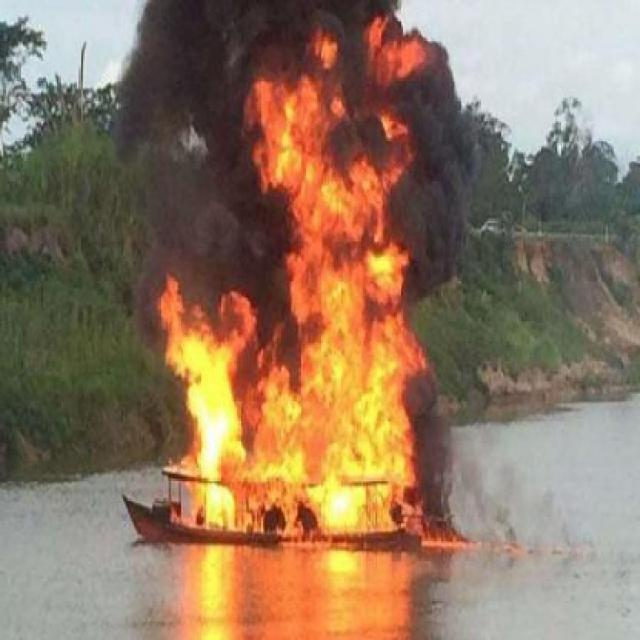Fire: (237, 74, 486, 554), (150, 277, 263, 538), (370, 20, 422, 83), (276, 530, 352, 548), (311, 31, 342, 72), (422, 534, 466, 551)
